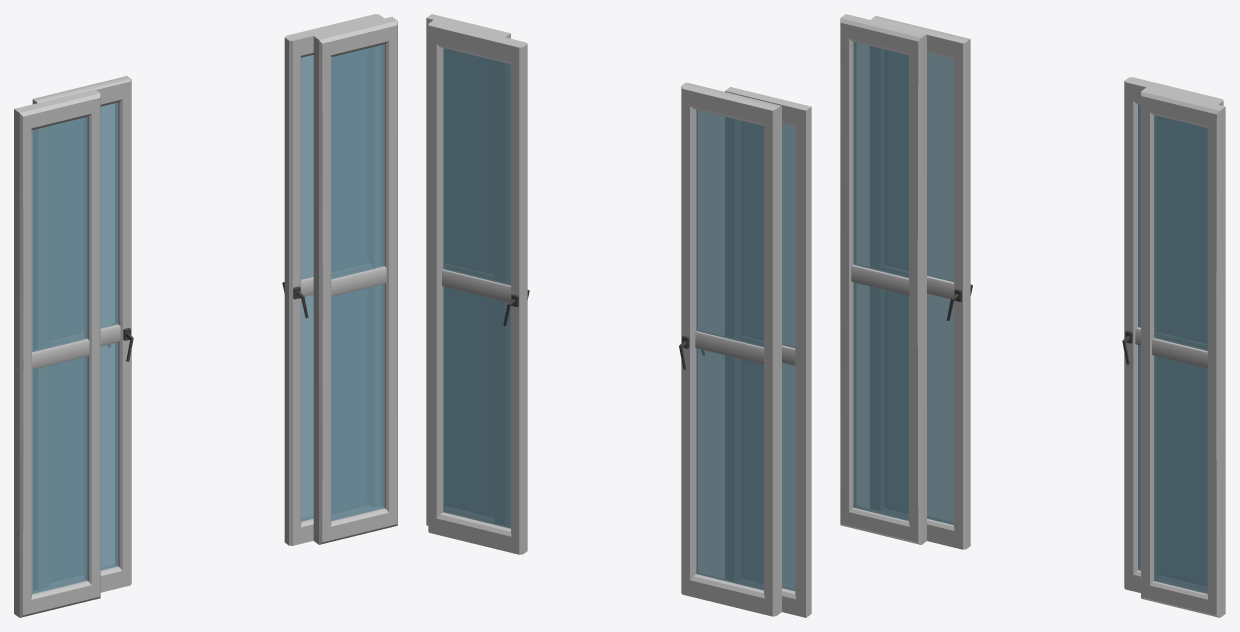
File: KintchDoor.FBX
3 views of the same model, side by side, from view 1: azimuth 30°, elevation 25°; view 2: azimuth 150°, elevation 25°; view 3: azimuth 330°, elevation 25° (orthographic).
Visible parts, largest first — view 1: KintchDoor; view 2: KintchDoor; view 3: KintchDoor.
Boxes of the visible parts, x1=… form: KintchDoor: x1=14, y1=14, x2=397, y2=617; KintchDoor: x1=426, y1=14, x2=811, y2=617; KintchDoor: x1=840, y1=14, x2=1225, y2=617.
Size of the model in its own units: 156 by 14.58 by 200.
